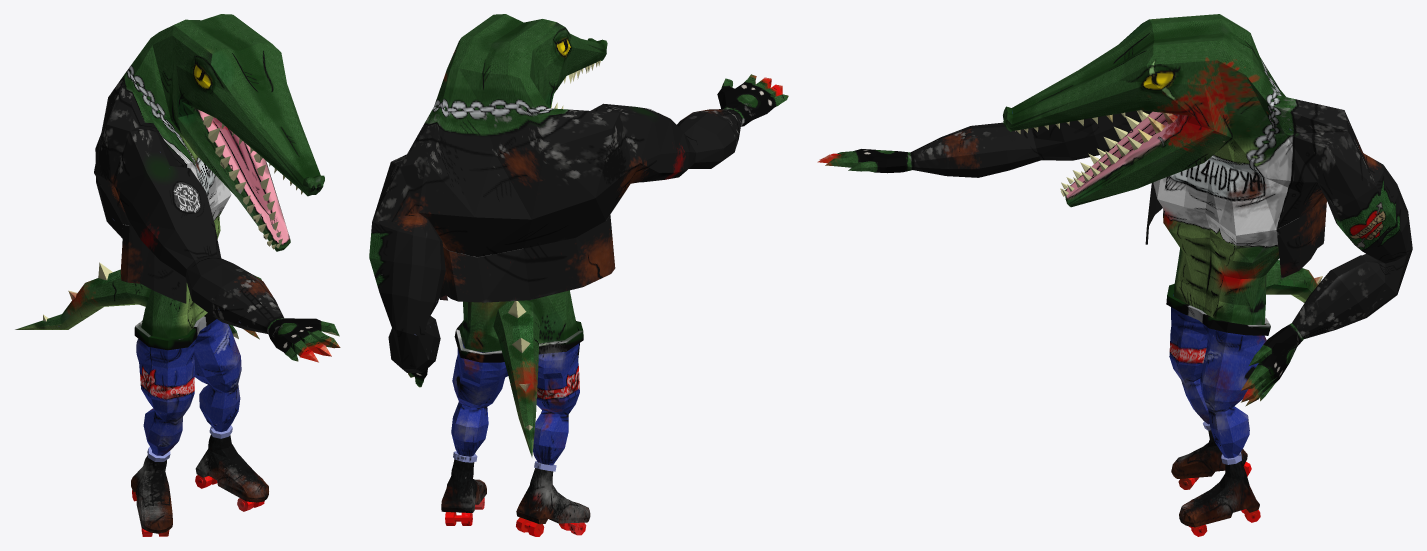
The model's file is cocodrilaBonesSelect_000009.obj.
3 renders of one model, left to right at view 1: azimuth 30°, elevation 25°; view 2: azimuth 150°, elevation 25°; view 3: azimuth 270°, elevation 25°, orthographic.
Parts seen in each view (by area): view 1: Crocodile.002_Cylinder.002; view 2: Crocodile.002_Cylinder.002; view 3: Crocodile.002_Cylinder.002.
Boxes of the visible parts, <box> form: Crocodile.002_Cylinder.002: <box>15,14,340,536</box>; Crocodile.002_Cylinder.002: <box>369,14,788,536</box>; Crocodile.002_Cylinder.002: <box>817,14,1412,536</box>.
Bounding box in the file's own units: 2.89 × 6.67 × 7.36.
